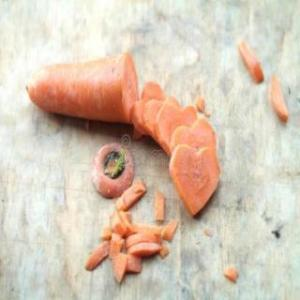carrot: (25, 52, 138, 122)
